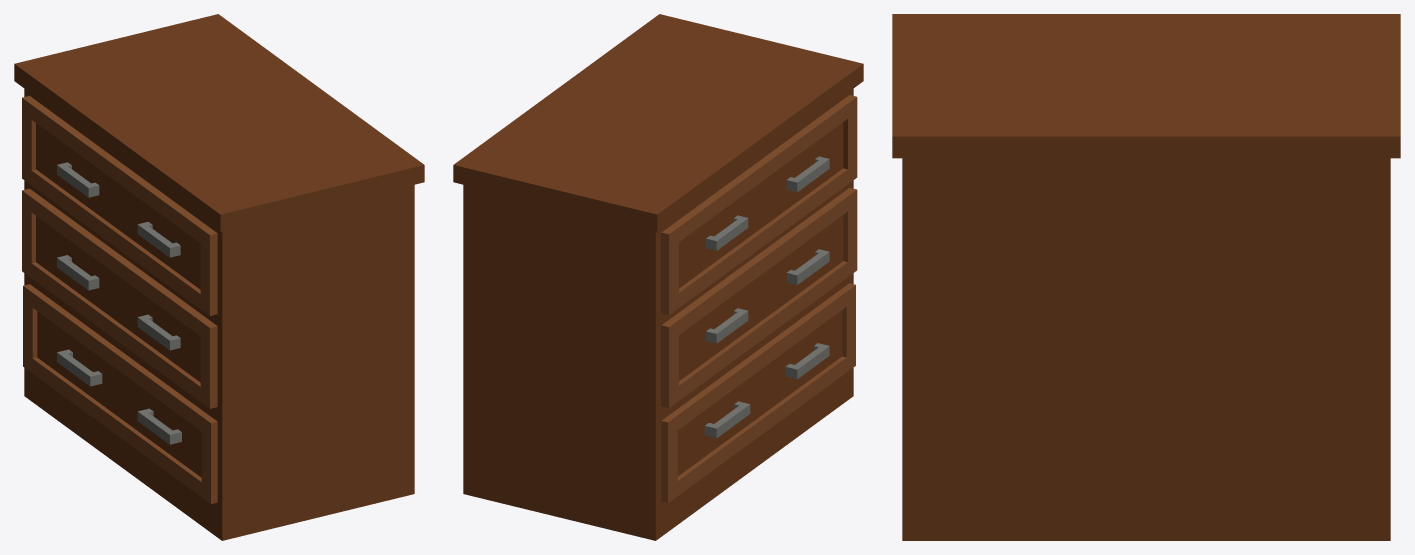
File: DrawerChest.fbx
3 renders of one model, left to right at view 1: azimuth 30°, elevation 25°; view 2: azimuth 150°, elevation 25°; view 3: azimuth 270°, elevation 25°, orthographic. The views are drawn at different scales.
Parts seen in each view (by area): view 1: Cube.8155; view 2: Cube.8155; view 3: Cube.8155.
Boxes of the visible parts, x1,y1,x2,y2 form: Cube.8155: (14, 14, 424, 540); Cube.8155: (453, 14, 863, 540); Cube.8155: (892, 14, 1400, 540).
Size of the model in its own units: 106 by 157 by 178.
1 material, 1 textured.
